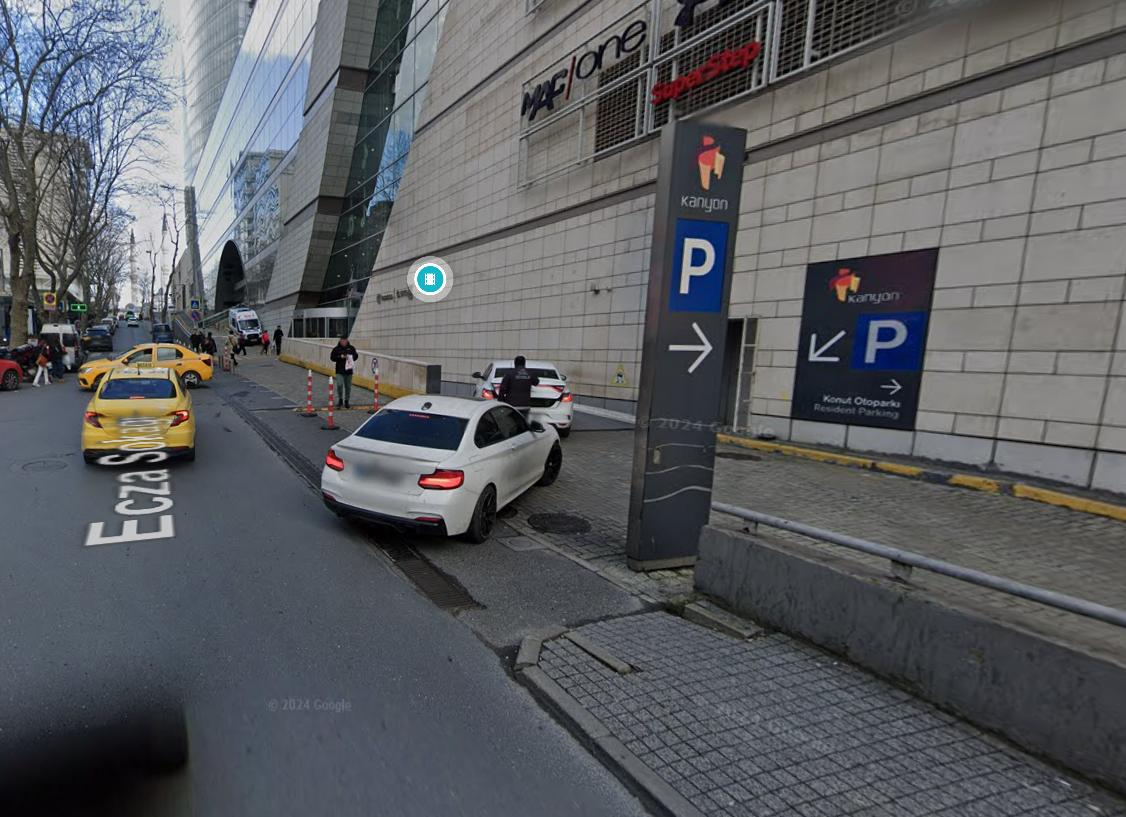park: (678, 220, 728, 298), (855, 313, 917, 372)
